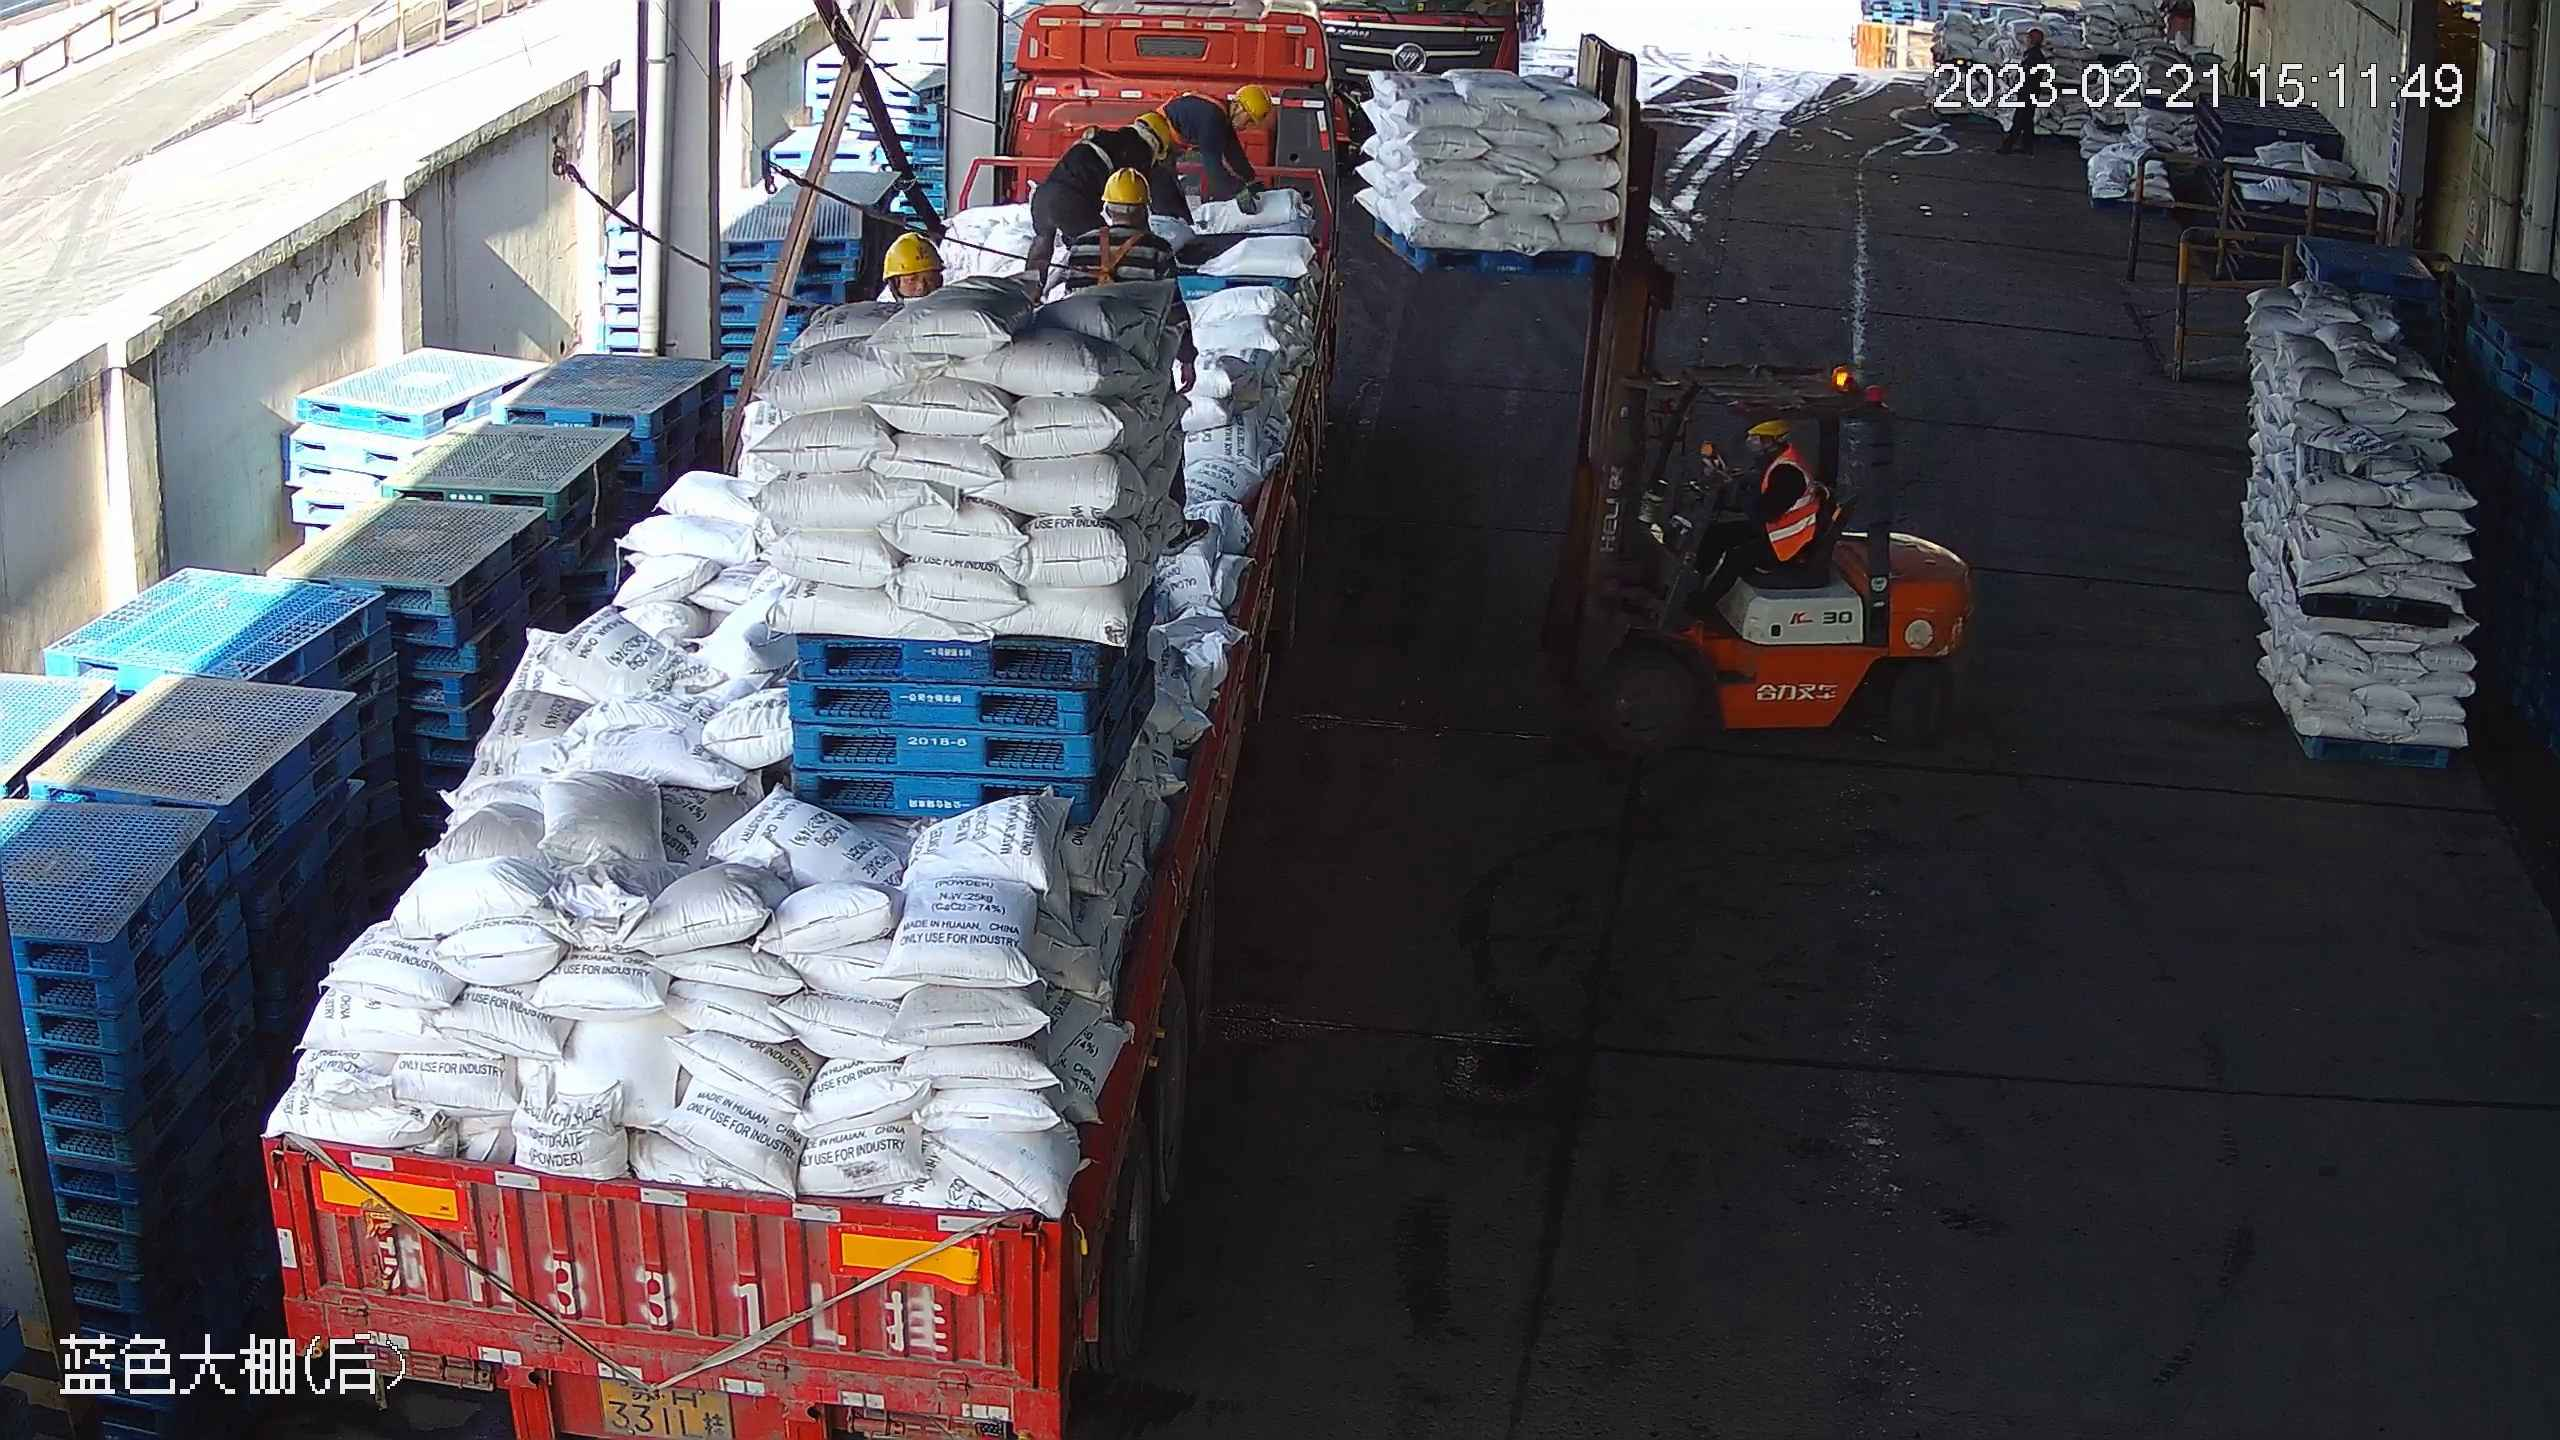belt: (1152, 88, 1227, 147), (1054, 124, 1115, 175), (1096, 225, 1146, 284)
head: (1068, 166, 1171, 263), (1196, 84, 1270, 145), (1104, 112, 1171, 174)
helmet: (881, 232, 945, 281), (1099, 166, 1150, 204), (1133, 111, 1171, 161), (1233, 83, 1270, 124)
people: (1023, 112, 1171, 285), (1691, 420, 1821, 613), (1148, 83, 1271, 225)
truck: (260, 1, 1342, 1440), (1316, 1, 1521, 143)
